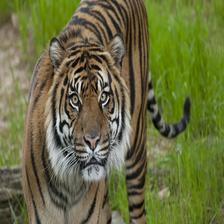tiger: (28, 5, 170, 224)
